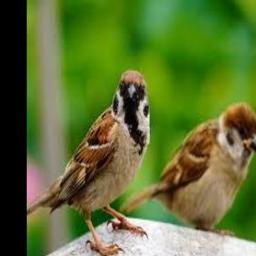Sparrow: (27, 70, 149, 256), (121, 103, 256, 236)
